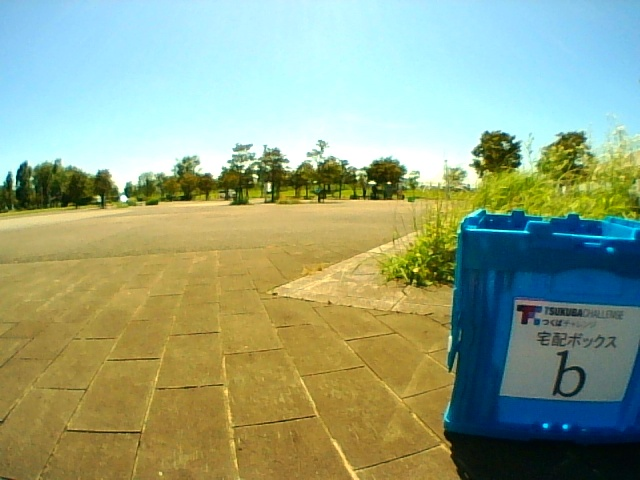blue_box: (468, 216, 640, 434)
tag_b: (518, 305, 619, 400)
